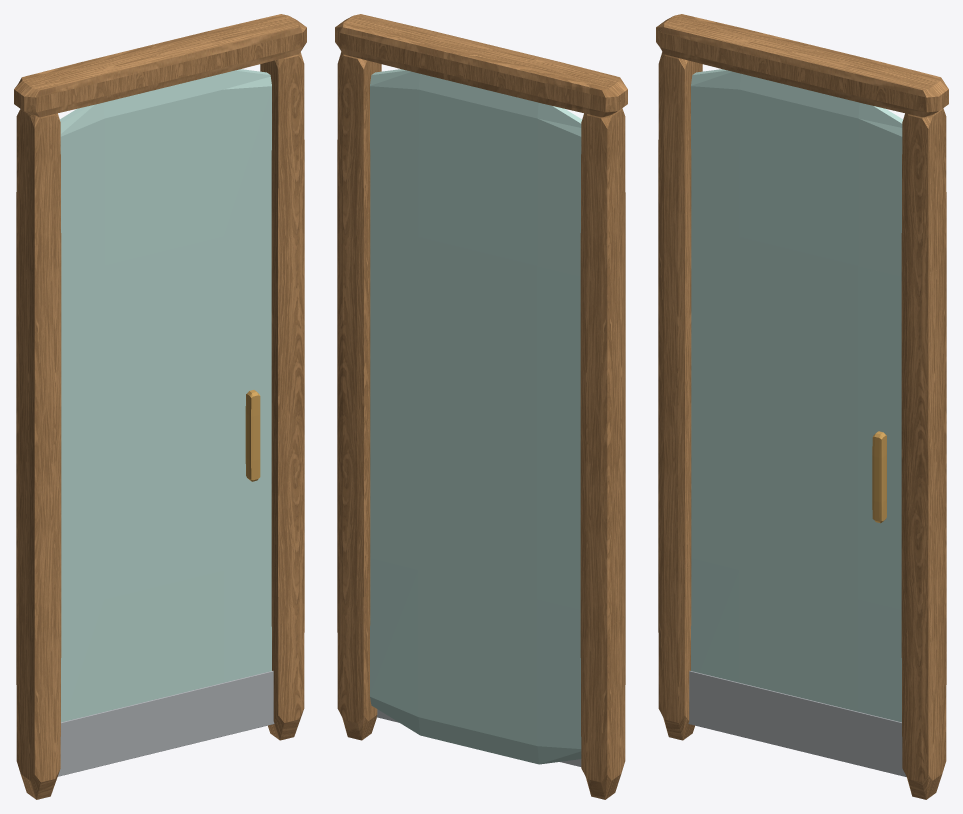
Rendered from hiperreal-hd.glb.
3 renders of one model, left to right at view 1: azimuth 30°, elevation 25°; view 2: azimuth 150°, elevation 25°; view 3: azimuth 330°, elevation 25°, orthographic.
Visible parts, largest first — view 1: Native component 3, Native component 0, Hiperreal placa de patada, Native component 4; view 2: Native component 3, Native component 0; view 3: Native component 3, Native component 0, Hiperreal placa de patada, Native component 4.
Boxes of the visible parts, x1,y1,x2,y2 form: Native component 3: (59, 69, 271, 722); Native component 0: (14, 14, 306, 799); Hiperreal placa de patada: (57, 671, 274, 776); Native component 4: (245, 390, 260, 481); Native component 3: (370, 69, 582, 764); Native component 0: (335, 14, 627, 799); Native component 3: (691, 69, 903, 722); Native component 0: (656, 14, 948, 799); Hiperreal placa de patada: (688, 671, 906, 776); Native component 4: (872, 431, 886, 523).
Bounding box in the file's own units: 1 × 2.41 × 0.1245.
Materials: 4 (1 with a texture image).
